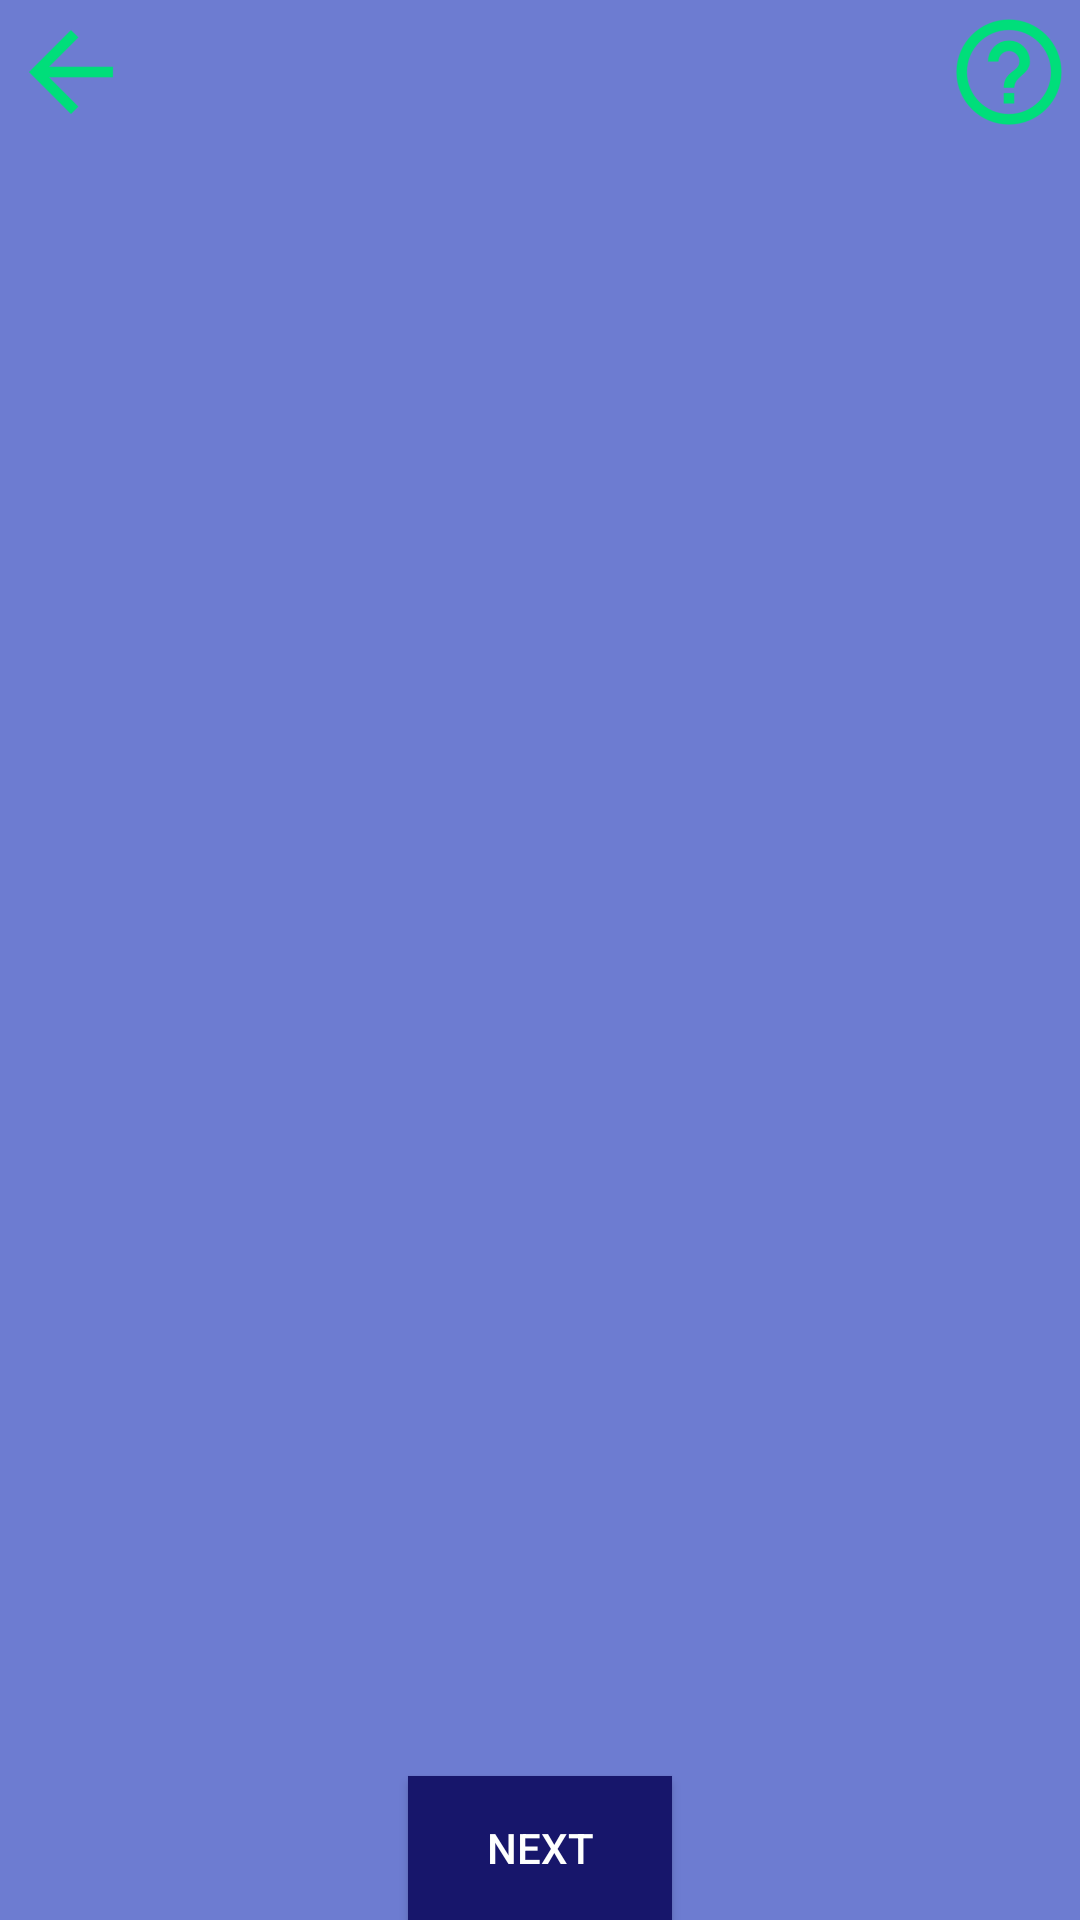

Icons on this 1080 × 1920 Android screen, each with its box as {"left": x1, "top": y1, "right": x2, "bottom": y2}:
Back Button: {"left": 29, "top": 30, "right": 113, "bottom": 114}
Help Button: {"left": 956, "top": 19, "right": 1062, "bottom": 125}
